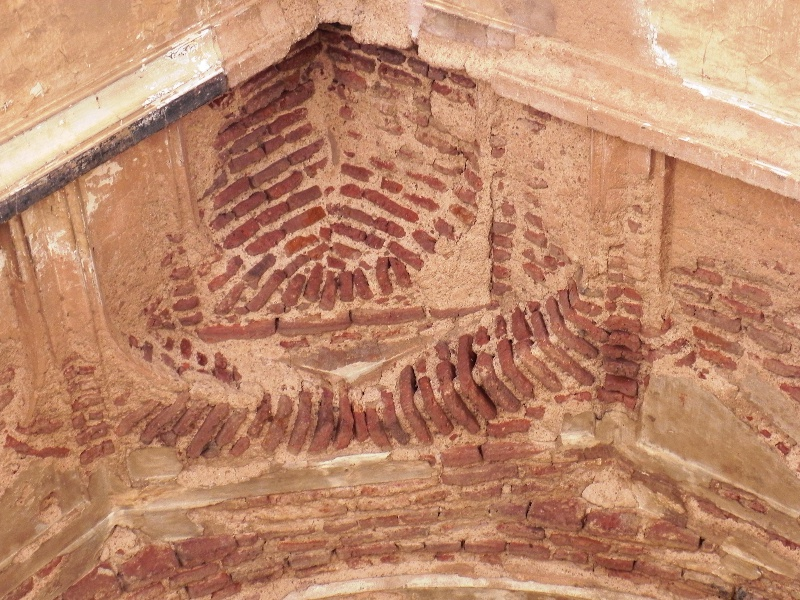Exposed Bricks: (98, 316, 647, 579), (212, 38, 477, 309), (670, 257, 800, 396)
